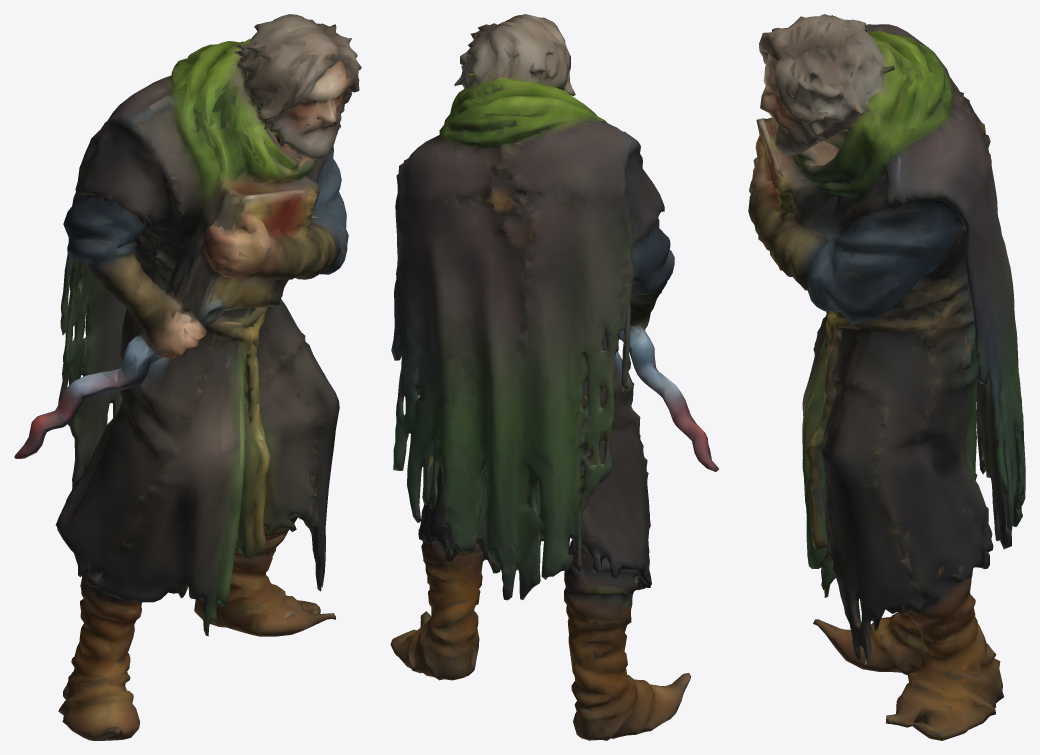
The model's file is Hired Hand_final.glb.
3 renders of one model, left to right at view 1: azimuth 30°, elevation 25°; view 2: azimuth 150°, elevation 25°; view 3: azimuth 270°, elevation 25°, orthographic. The views are drawn at different scales.
Parts seen in each view (by area): view 1: Mesh1.0; view 2: Mesh1.0; view 3: Mesh1.0.
Part boxes in pixels (bbox=[...]): Mesh1.0: bbox=[14, 14, 361, 740]; Mesh1.0: bbox=[390, 14, 718, 740]; Mesh1.0: bbox=[748, 14, 1025, 740].
Bounding box in the file's own units: 0.8487 × 1.7 × 0.5897.
Materials: 1 (1 with a texture image).
